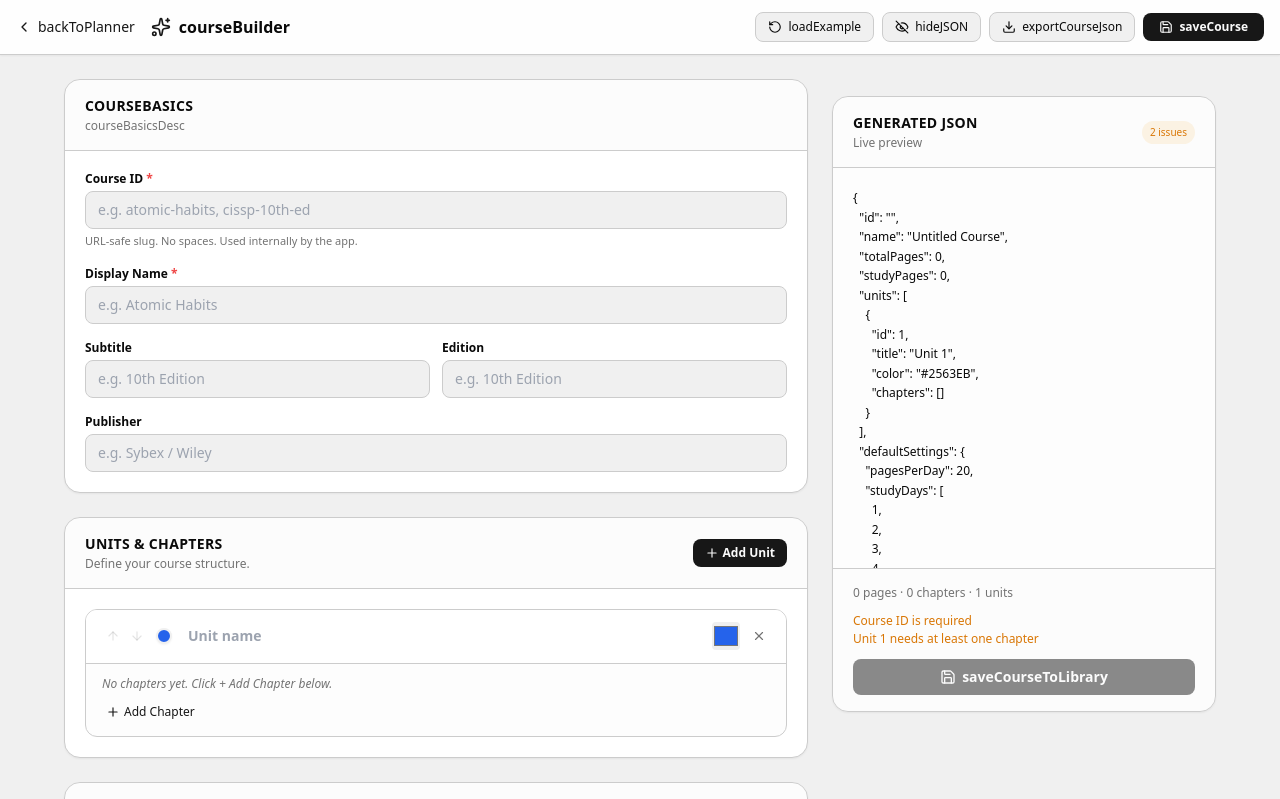
CourseBuilder › sanitizes the course ID as the user types
In the field with placeholder "e.g. atomic-habits, cissp-10th-ed": (436, 210) [85, 191, 787, 229], type "My Course!"
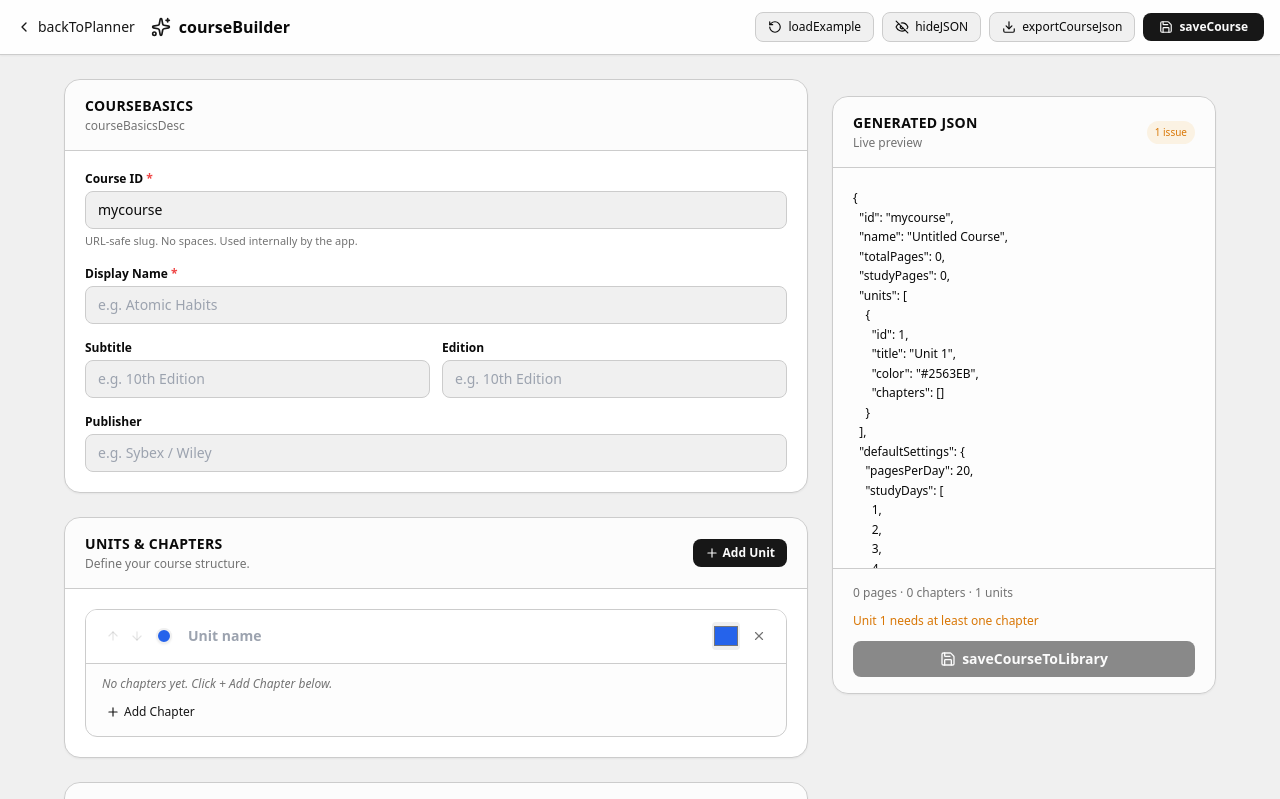
Result: the field with placeholder "e.g. atomic-habits, cissp-10th-ed" holds "mycourse" at [85, 191, 787, 229]
